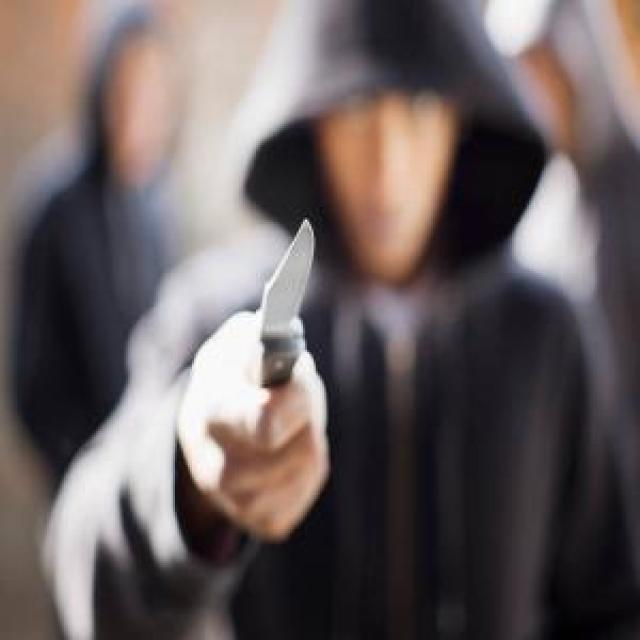knife: (230, 220, 317, 414)
